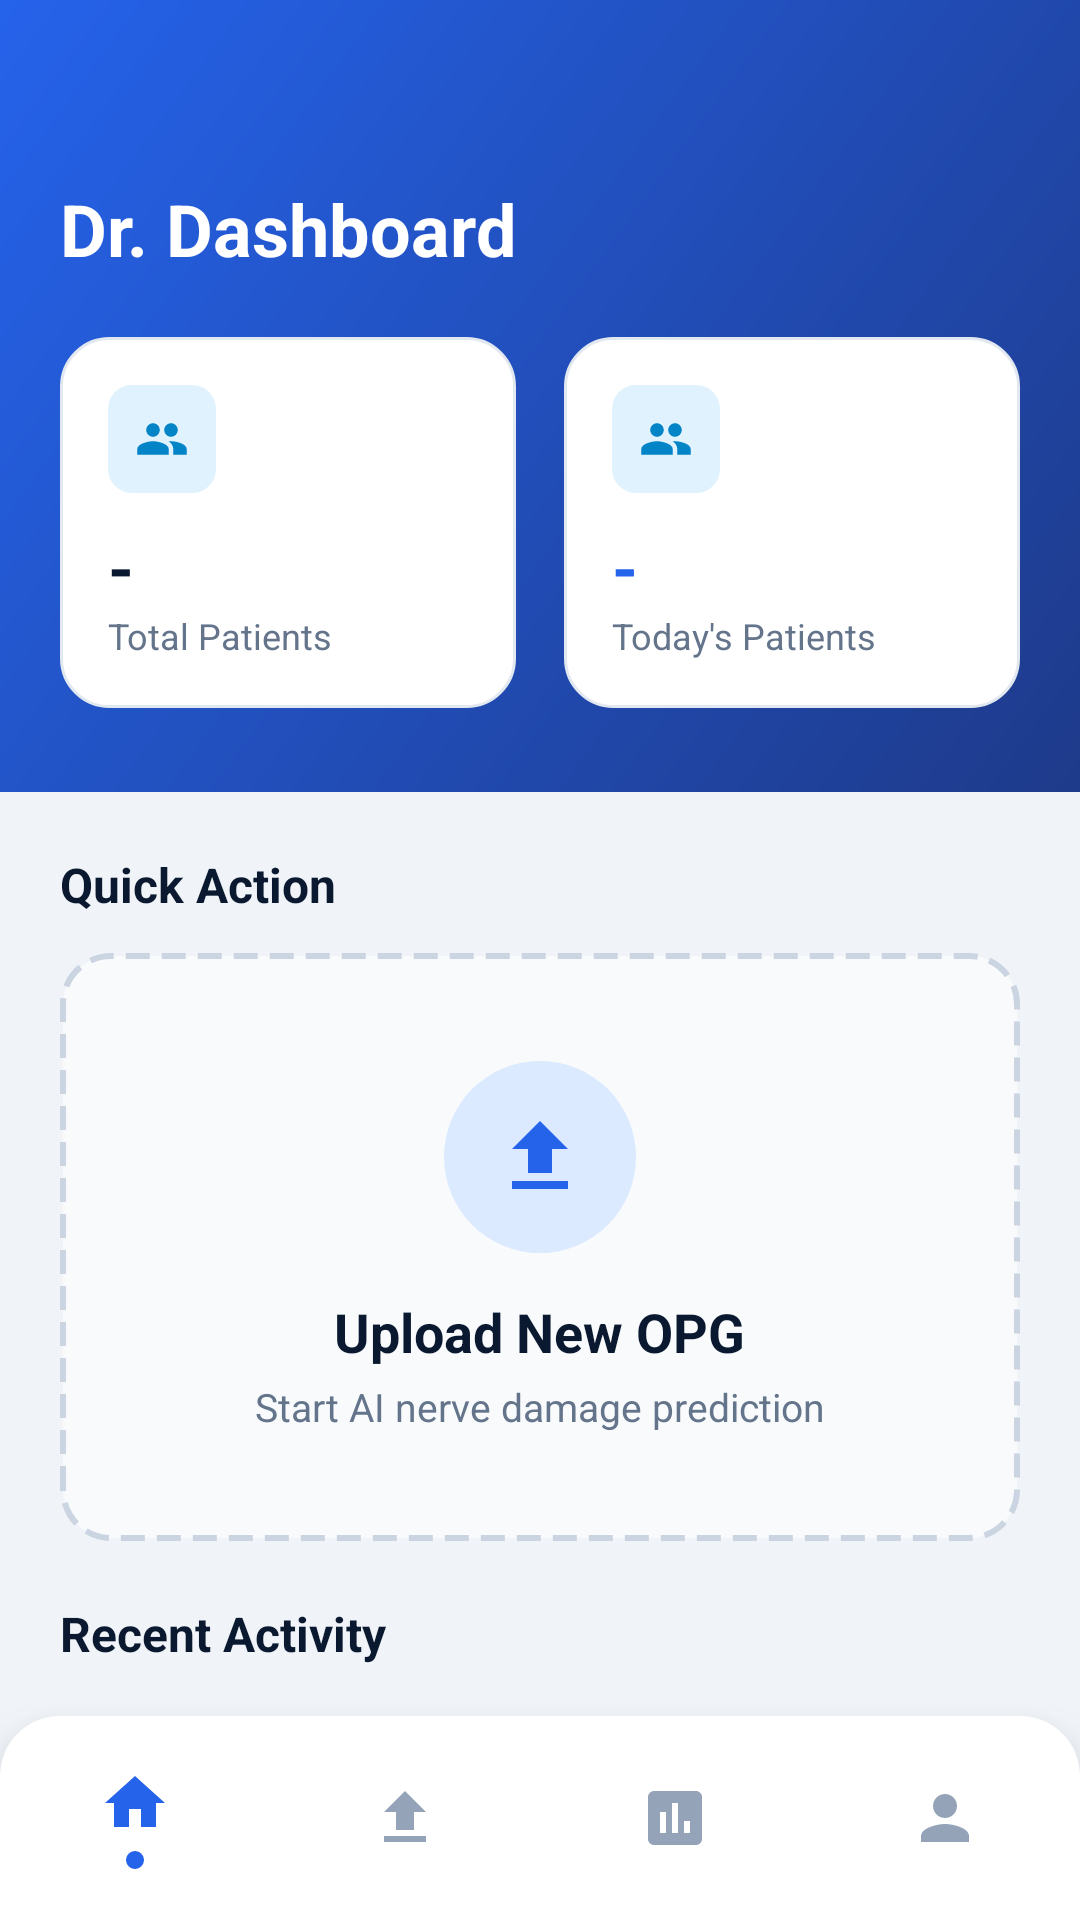

Locate icon controls on the screen. Image size 1080 x 1920, boxes as (x1=x1, y1=y1, x2=x2, y2=y2).
home: (x1=105, y1=1776, x2=165, y2=1827)
people: (x1=137, y1=423, x2=187, y2=455), (x1=641, y1=423, x2=691, y2=455)
profile: (x1=921, y1=1794, x2=969, y2=1842)
report: (x1=648, y1=1791, x2=702, y2=1845)
